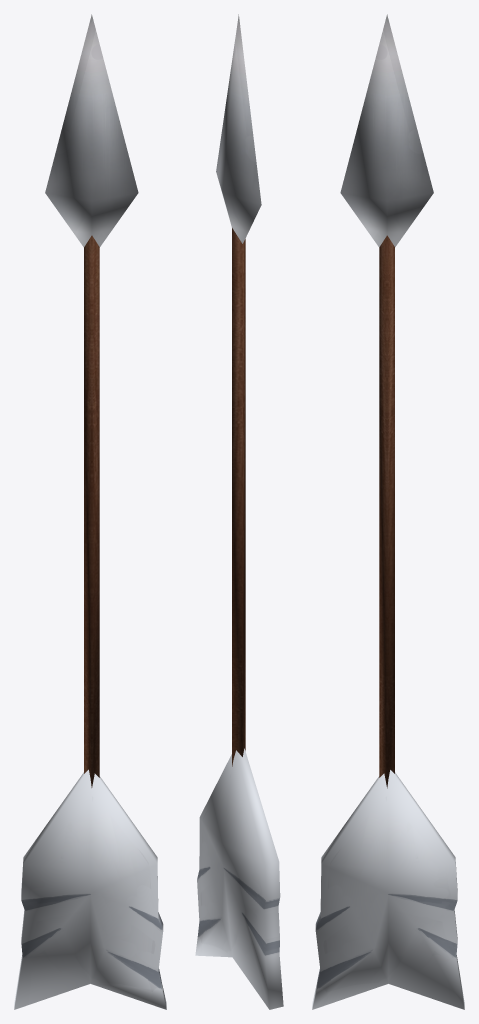
The model's file is testarrow241015.fbx.
3 views of the same model, side by side, from view 1: azimuth 90°, elevation 25°; view 2: azimuth 210°, elevation 25°; view 3: azimuth 270°, elevation 25° (orthographic). The views are drawn at different scales.
Parts seen in each view (by area): view 1: arrow001; view 2: arrow001; view 3: arrow001.
Part boxes in pixels (box(x1,y1,x2,y2)): arrow001: box(14, 14, 166, 1009); arrow001: box(195, 14, 283, 1009); arrow001: box(312, 14, 464, 1009).
Bounding box in the file's own units: 2 × 52.89 × 7.36.
1 material, 1 textured.
